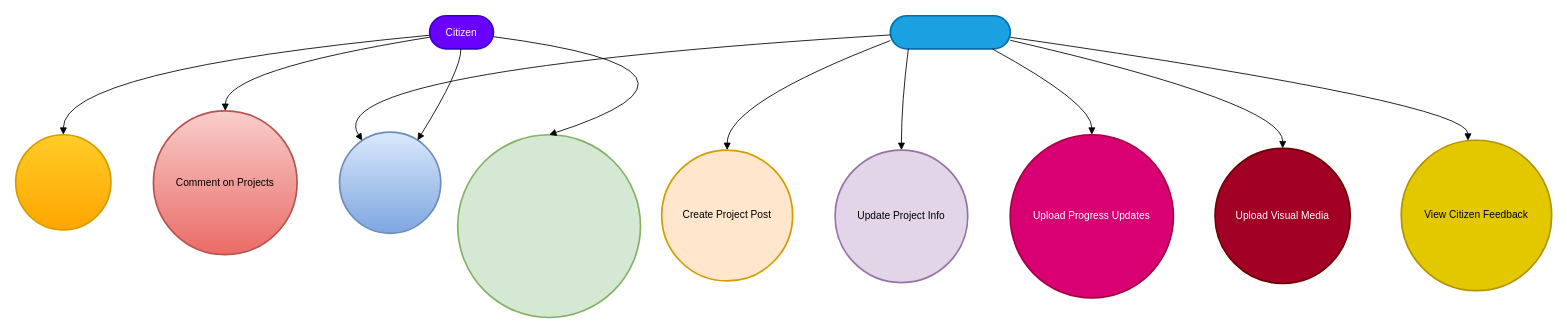
Some shapes in this 1567 by 332 pixel diagram are drawn without their labels. The box of each missing label's shape, as (x1, y1, x2, y2) in pixels:
Attach Media - text, image, video: (456, 133, 641, 318)
Project Manager: (889, 14, 1011, 49)
Register/Login: (338, 131, 441, 234)
View Projects: (14, 133, 111, 230)
